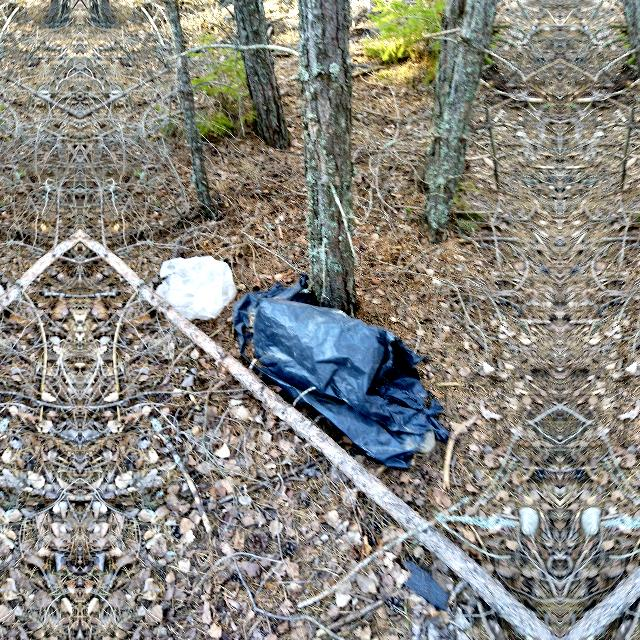Plastic: (224, 271, 464, 483), (147, 238, 245, 332)
